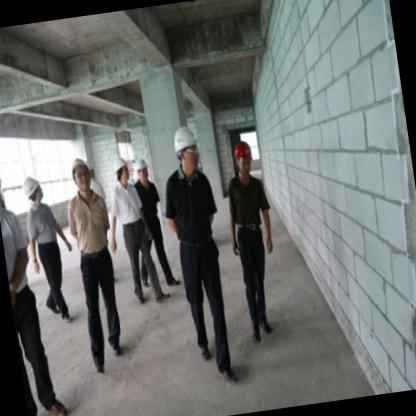helmet: (168, 120, 204, 176), (228, 136, 257, 185), (18, 168, 49, 210), (67, 154, 92, 195), (110, 150, 134, 190), (130, 149, 153, 190)
